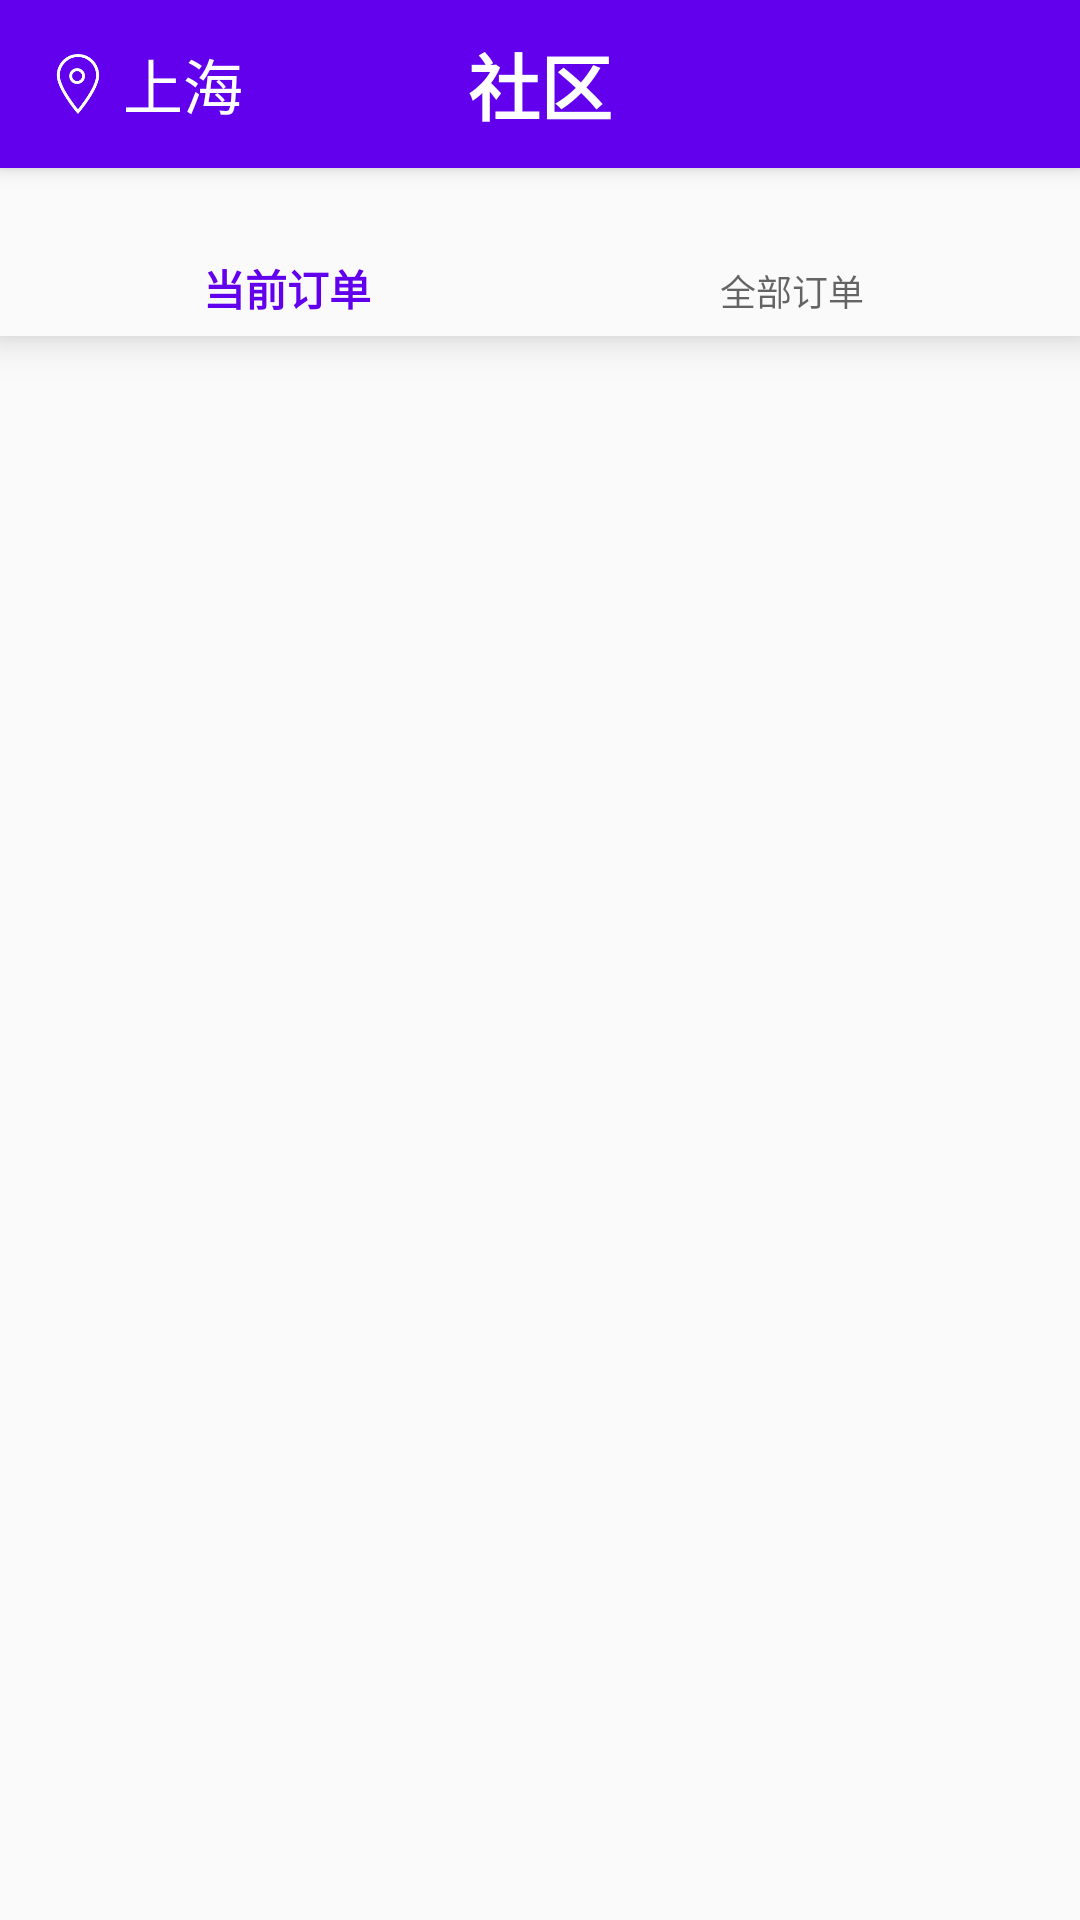

Icons on this 1080px×1920px Android screen, each with its box as (x1,y1,x2,y2):
location: (56,54,99,114)
